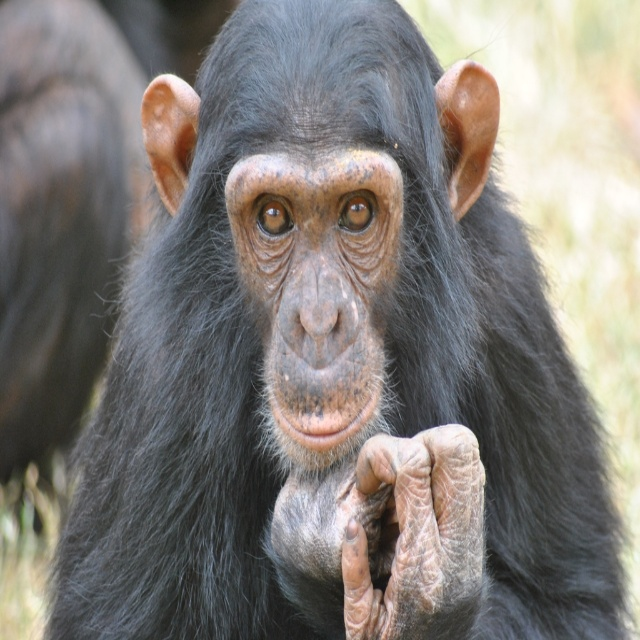Monkey: (54, 10, 633, 640)
